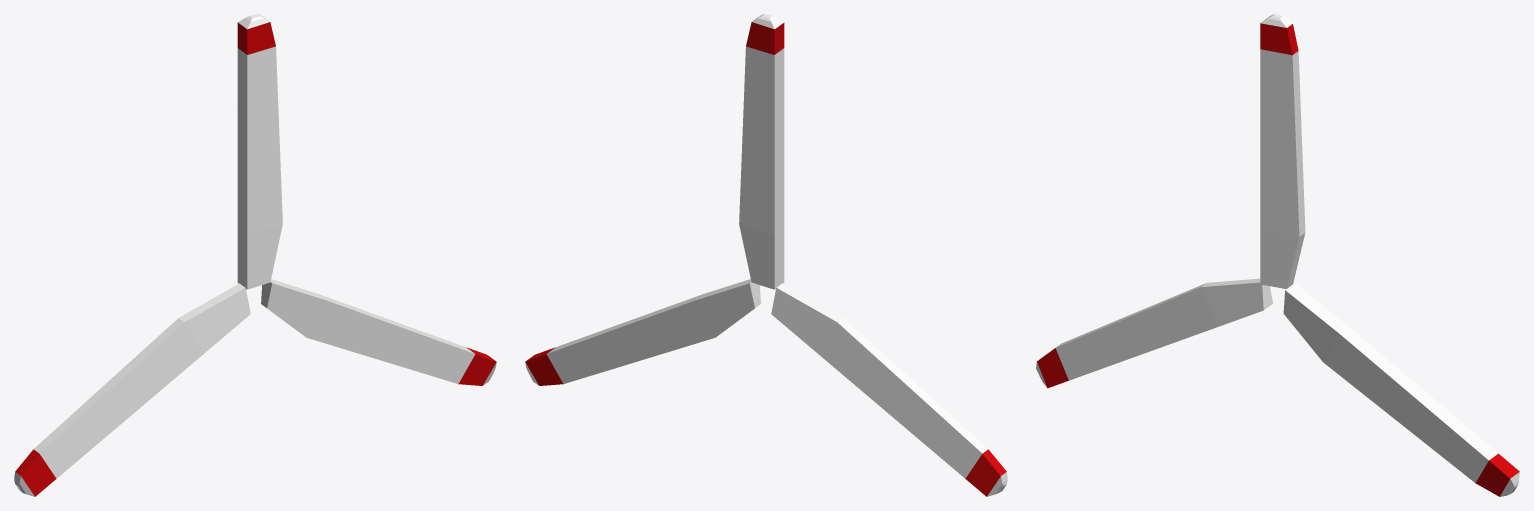
File: wind_turbine_blades.gltf
3 renders of one model, left to right at view 1: azimuth 30°, elevation 25°; view 2: azimuth 150°, elevation 25°; view 3: azimuth 330°, elevation 25°, orthographic.
Visible parts, largest first — view 1: blades; view 2: blades; view 3: blades.
Part boxes in pixels (box(x1,y1,x2,y2)): blades: box(14, 14, 496, 496); blades: box(525, 14, 1007, 496); blades: box(1036, 14, 1519, 496).
Size of the model in its own units: 17.24 by 14.6 by 0.6.
1 material, 1 textured.
